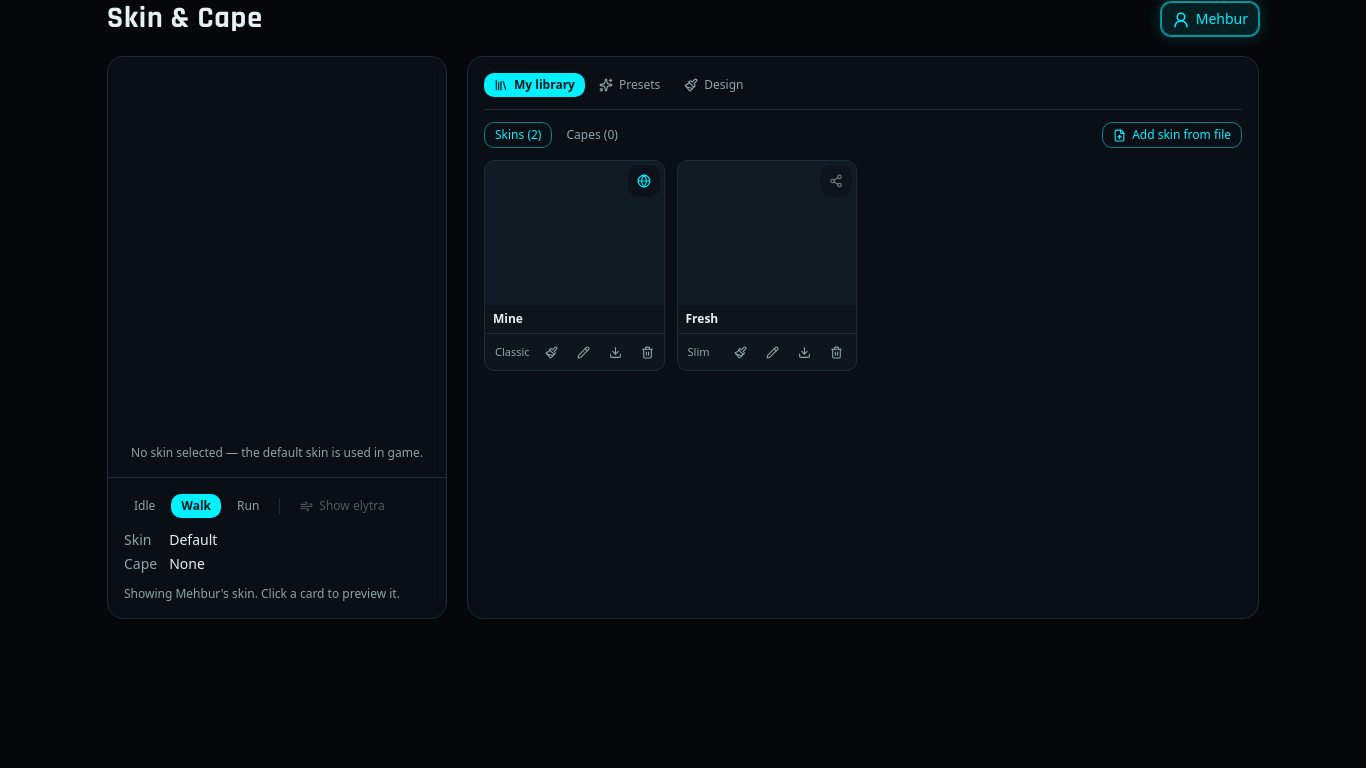
Test case: Sharing skins › withdraws from the share dialog
Click the button named "Manage share".
click(644, 181)  # box [628,165,660,197]
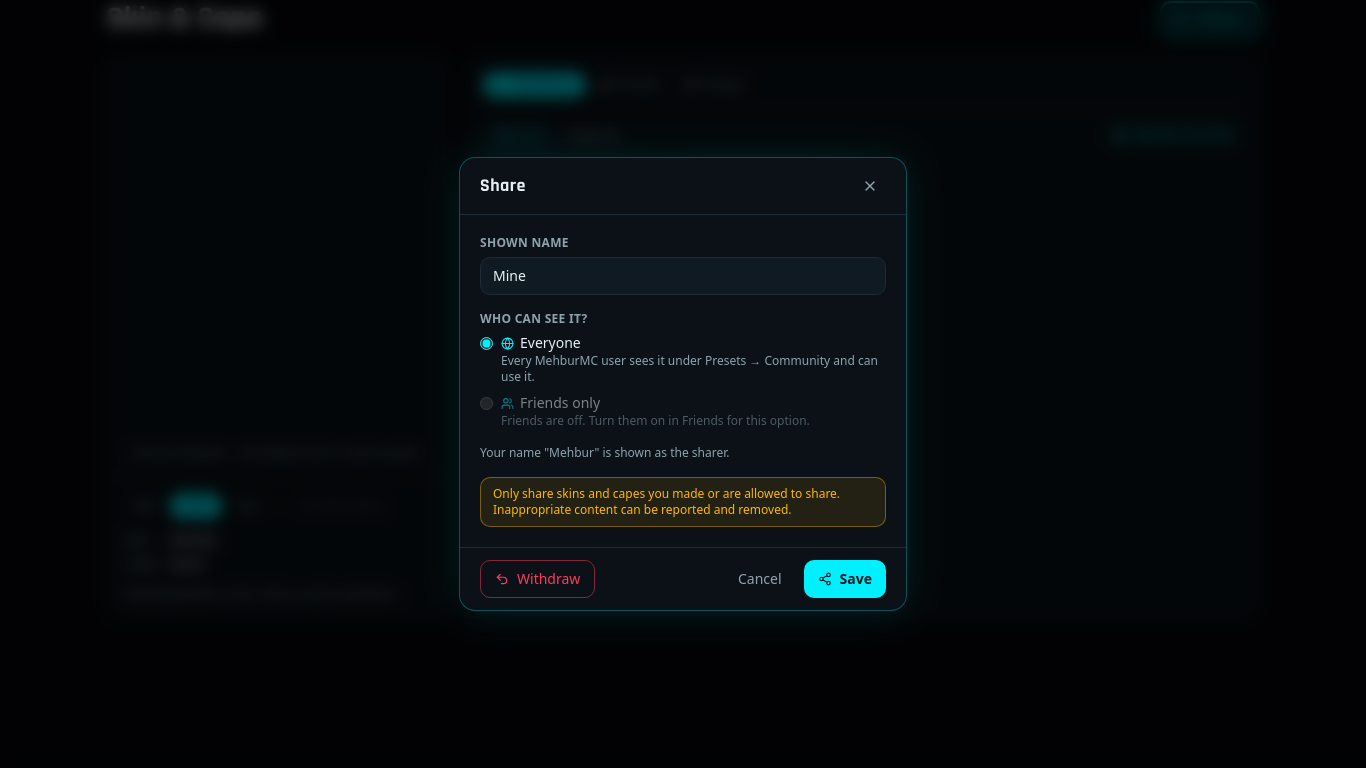
Click the button "Withdraw".
click(538, 579)  # box [480,560,595,598]
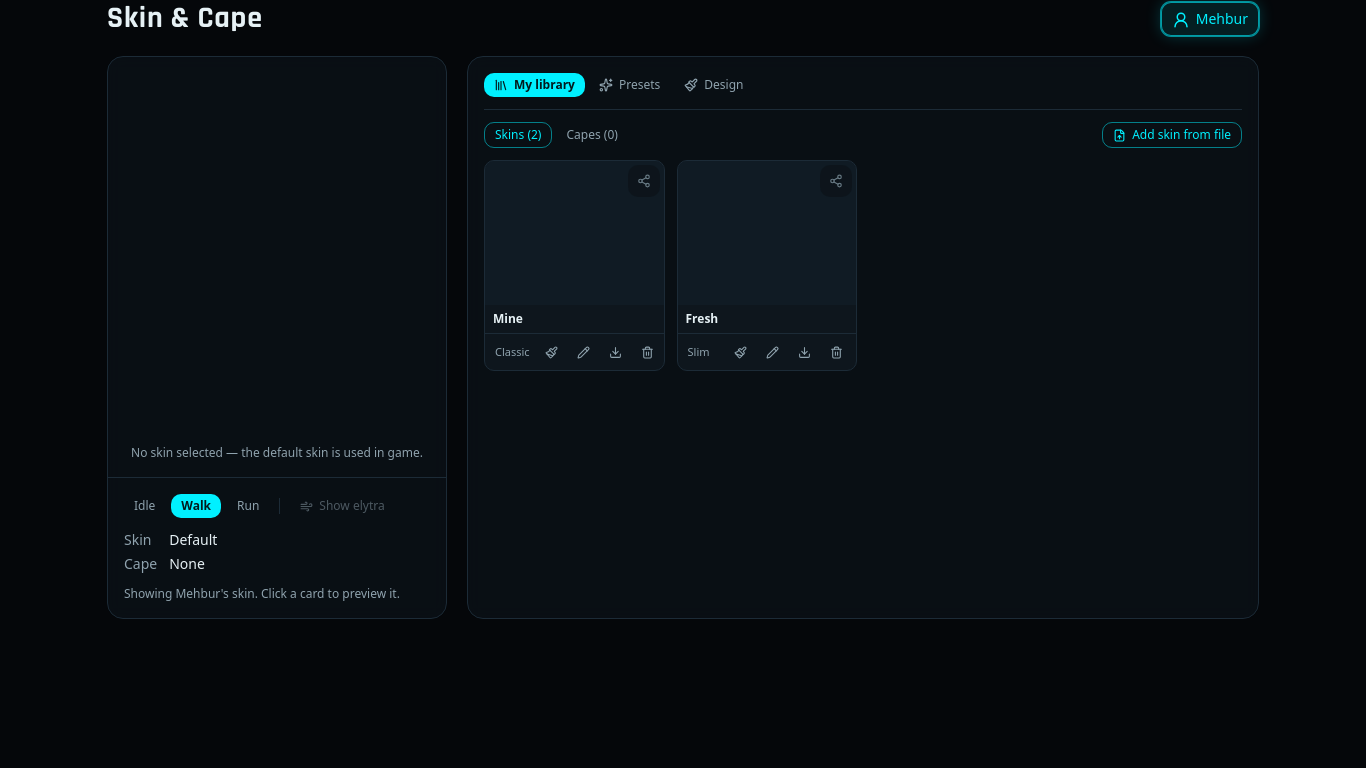
Check: the picture "Everyone" is gone
